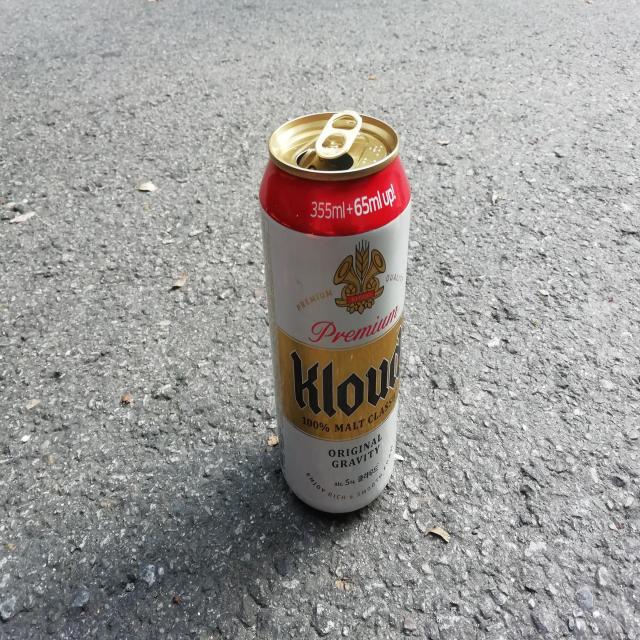can: (259, 109, 411, 513)
